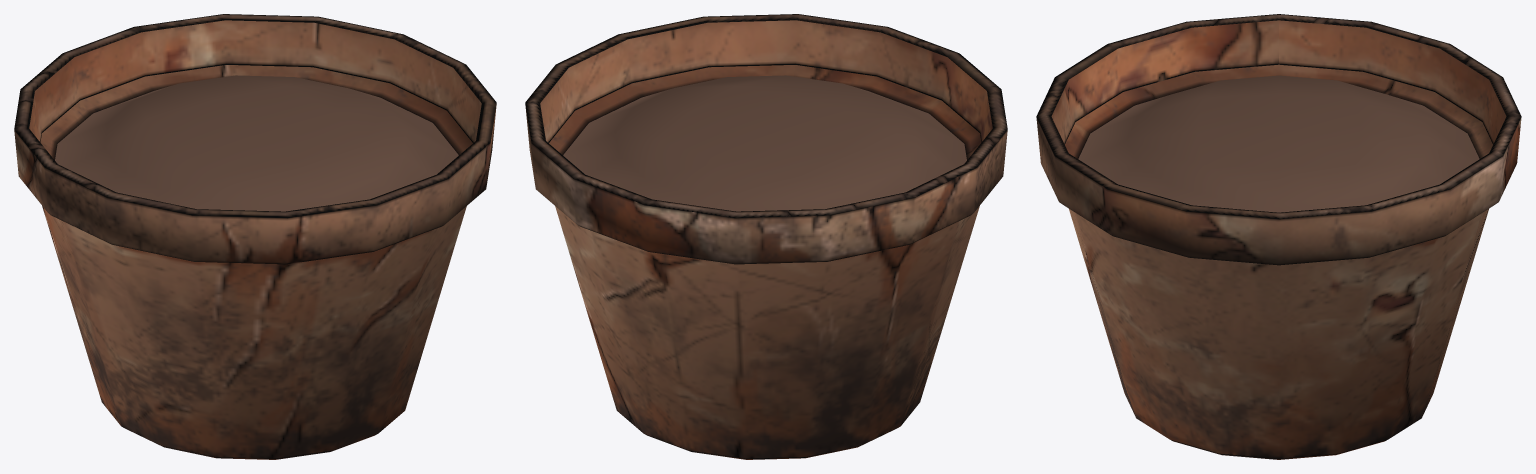
File: SM_PotDirt.fbx
3 renders of one model, left to right at view 1: azimuth 30°, elevation 25°; view 2: azimuth 150°, elevation 25°; view 3: azimuth 270°, elevation 25°, orthographic.
Visible parts, largest first — view 1: SM_PotDirt; view 2: SM_PotDirt; view 3: SM_PotDirt.
Boxes of the visible parts, bbox=[...] form: SM_PotDirt: bbox=[14, 14, 496, 459]; SM_PotDirt: bbox=[525, 14, 1007, 459]; SM_PotDirt: bbox=[1036, 14, 1521, 459].
Size of the model in its own units: 62.68 by 40.23 by 62.68.
